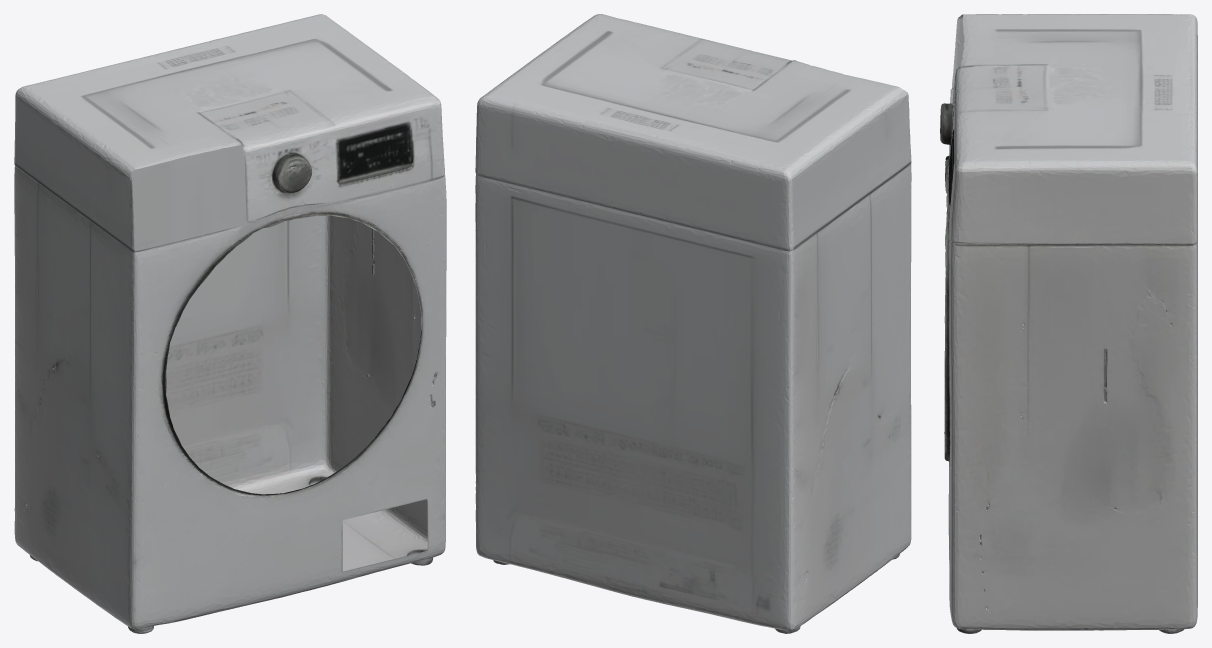
3 renders of one model, left to right at view 1: azimuth 30°, elevation 25°; view 2: azimuth 150°, elevation 25°; view 3: azimuth 270°, elevation 25°, orthographic.
Parts seen in each view (by area): view 1: source_surface_0; view 2: source_surface_0; view 3: source_surface_0.
Part boxes in pixels (<box>): source_surface_0: <box>14,14,446,633</box>; source_surface_0: <box>475,14,911,633</box>; source_surface_0: <box>940,14,1197,633</box>.
Size of the model in its own units: 0.6071 by 0.85 by 0.4195.
1 material, 1 textured.
